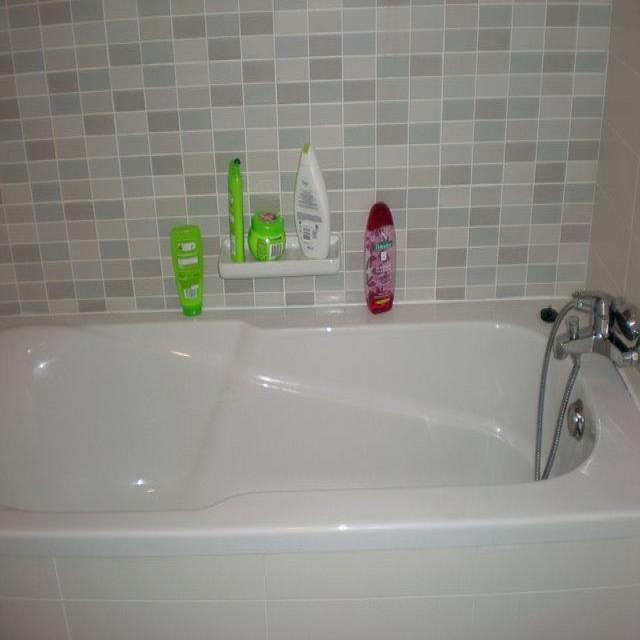bath crop: (1, 293, 639, 543)
hair: (236, 204, 290, 263)
shampoo: (168, 225, 203, 317)
shelf crop: (219, 231, 339, 280)
tile wall: (475, 72, 512, 105)
wall clock: (1, 0, 612, 320), (584, 0, 639, 407)
washing liquid: (363, 185, 399, 320)
